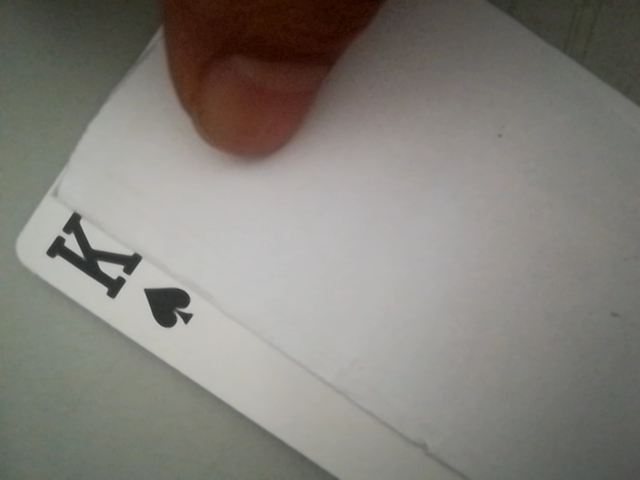ht k: (19, 204, 208, 341)
